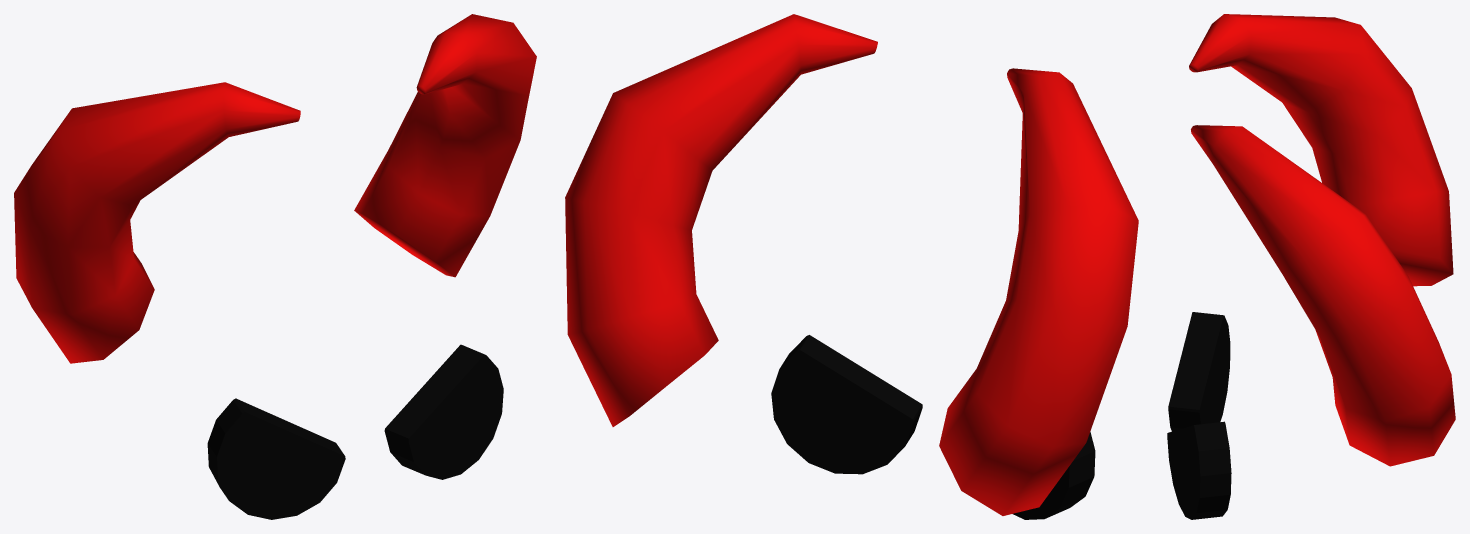
Rendered from Demon_Head.fbx.
3 views of the same model, side by side, from view 1: azimuth 30°, elevation 25°; view 2: azimuth 150°, elevation 25°; view 3: azimuth 270°, elevation 25° (orthographic). The views are drawn at different scales.
Visible parts, largest first — view 1: Demon_Head; view 2: Demon_Head; view 3: Demon_Head.
Boxes of the visible parts, bbox=[...] form: Demon_Head: bbox=[14, 14, 536, 519]; Demon_Head: bbox=[565, 14, 1138, 519]; Demon_Head: bbox=[1167, 14, 1455, 519].
Size of the model in its own units: 146 by 118 by 76.86.
